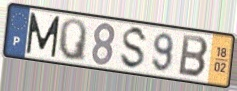8: (91, 21, 117, 67)
9: (150, 31, 178, 73)
B: (176, 32, 210, 80)
M: (25, 11, 62, 59)
Q: (57, 17, 88, 64)
S: (118, 25, 150, 71)
